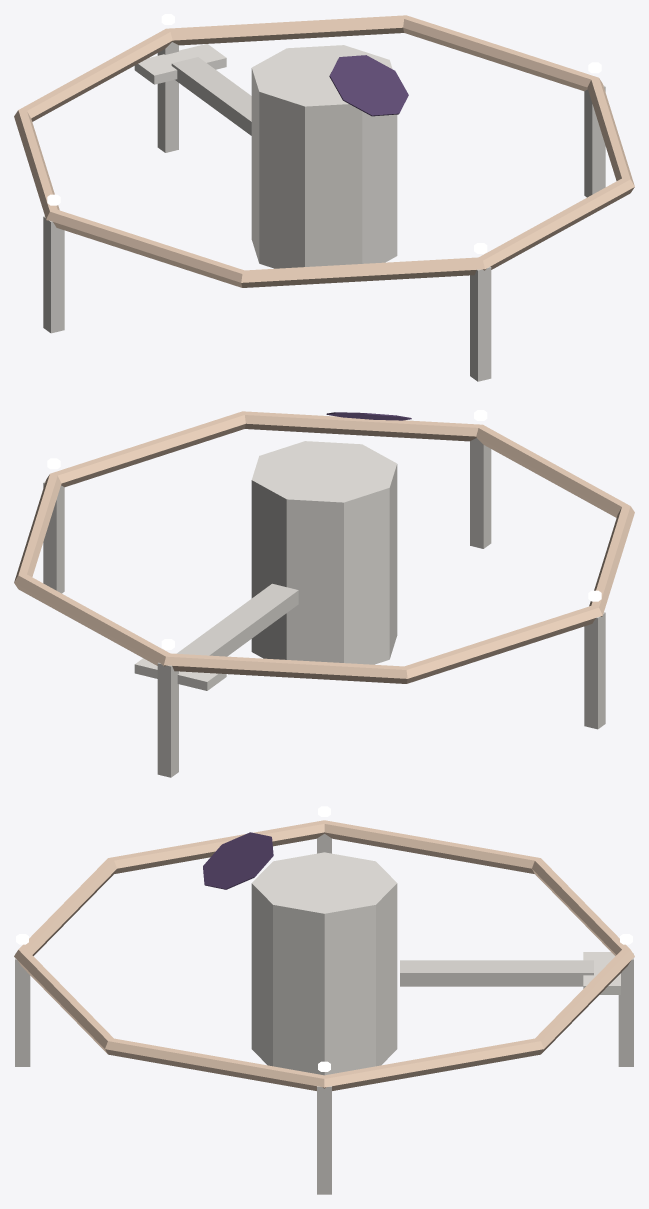
Rendered from station.glb.
3 renders of one model, top to bottom at view 1: azimuth 30°, elevation 25°; view 2: azimuth 150°, elevation 25°; view 3: azimuth 270°, elevation 25°, orthographic. The views are drawn at different scales.
Parts seen in each view (by area): view 1: Station; view 2: Station; view 3: Station.
Boxes of the visible parts, x1,y1,x2,y2 form: Station: [14, 14, 634, 381]; Station: [14, 410, 634, 777]; Station: [14, 806, 634, 1194].
Size of the model in its own units: 11.52 by 4.53 by 11.52.
